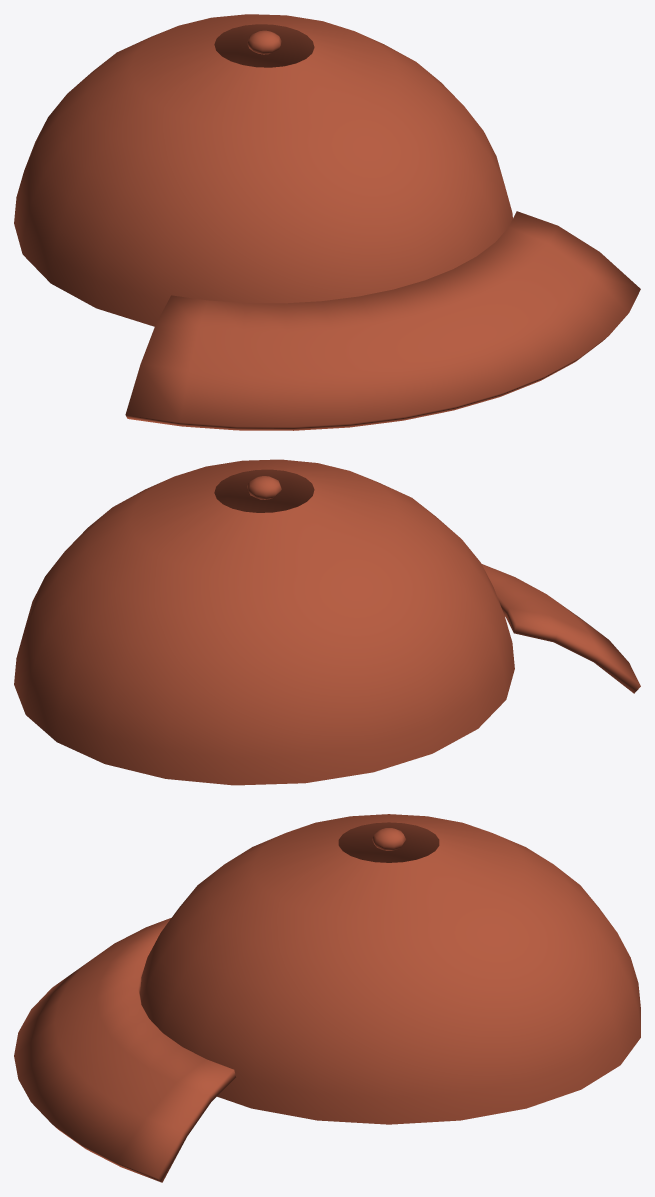
The model's file is cap_meta.glb.
3 renders of one model, top to bottom at view 1: azimuth 30°, elevation 25°; view 2: azimuth 150°, elevation 25°; view 3: azimuth 270°, elevation 25°, orthographic. The views are drawn at different scales.
Parts seen in each view (by area): view 1: cap; view 2: cap; view 3: cap.
Part boxes in pixels (x1,y1,x2,y2): cap: (14, 14, 640, 430); cap: (14, 459, 640, 785); cap: (14, 814, 640, 1182).
Size of the model in its own units: 0.32 by 0.1417 by 0.3463.
